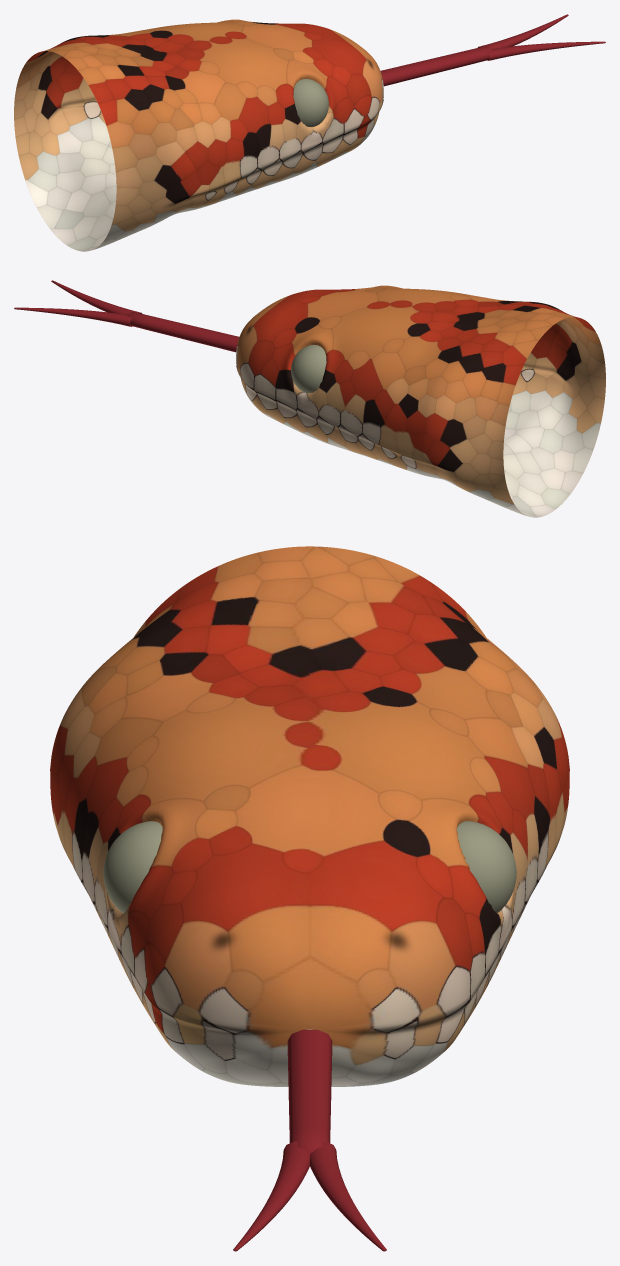
File: corn.glb
3 renders of one model, top to bottom at view 1: azimuth 30°, elevation 25°; view 2: azimuth 150°, elevation 25°; view 3: azimuth 270°, elevation 25°, orthographic. The views are drawn at different scales.
Visible parts, largest first — view 1: corn_head, corn_tongue, corn_eye_R; view 2: corn_head, corn_tongue, corn_eye_L; view 3: corn_head, corn_tongue, corn_eye_L, corn_eye_R.
Boxes of the visible parts, <box> form: corn_head: <box>14,19,383,251</box>; corn_tongue: <box>380,14,605,86</box>; corn_eye_R: <box>293,78,328,126</box>; corn_head: <box>236,285,605,517</box>; corn_tongue: <box>14,280,239,352</box>; corn_eye_L: <box>291,344,326,393</box>; corn_head: <box>50,546,569,1086</box>; corn_tongue: <box>233,1029,386,1251</box>; corn_eye_L: <box>457,821,516,912</box>; corn_eye_R: <box>103,821,162,912</box>.
Size of the model in its own units: 0.0576 by 0.0196 by 0.0248.
Materials: 3 (1 with a texture image).
